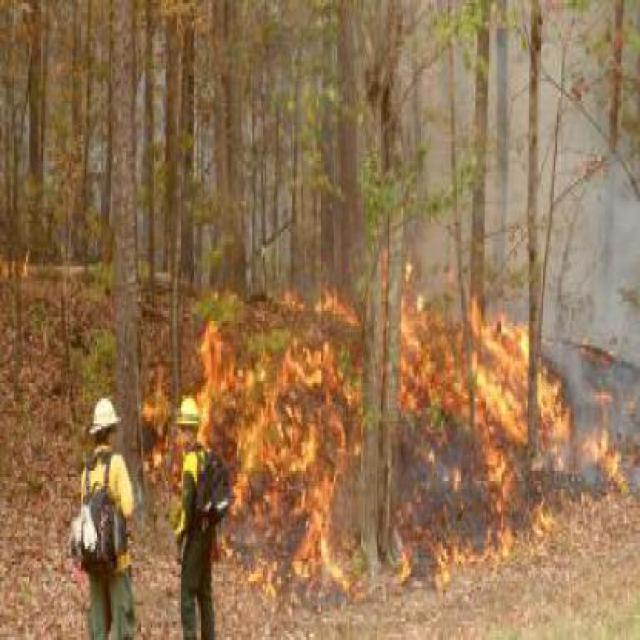fire: (209, 318, 575, 487)
